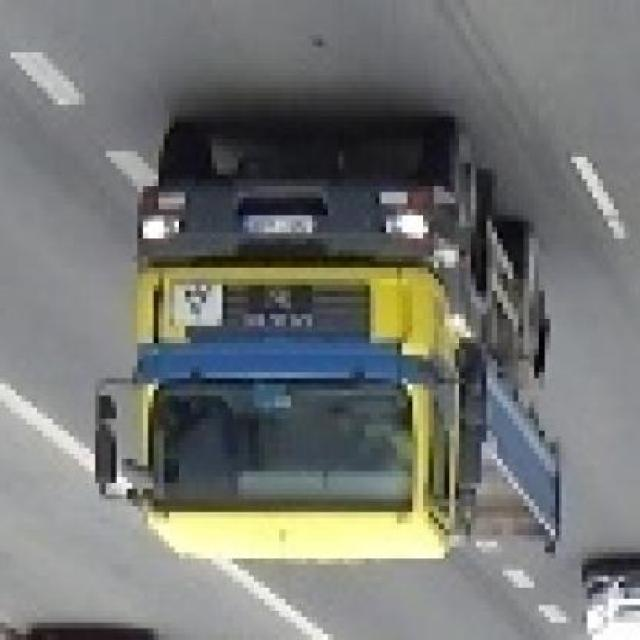truck: (102, 117, 573, 577)
